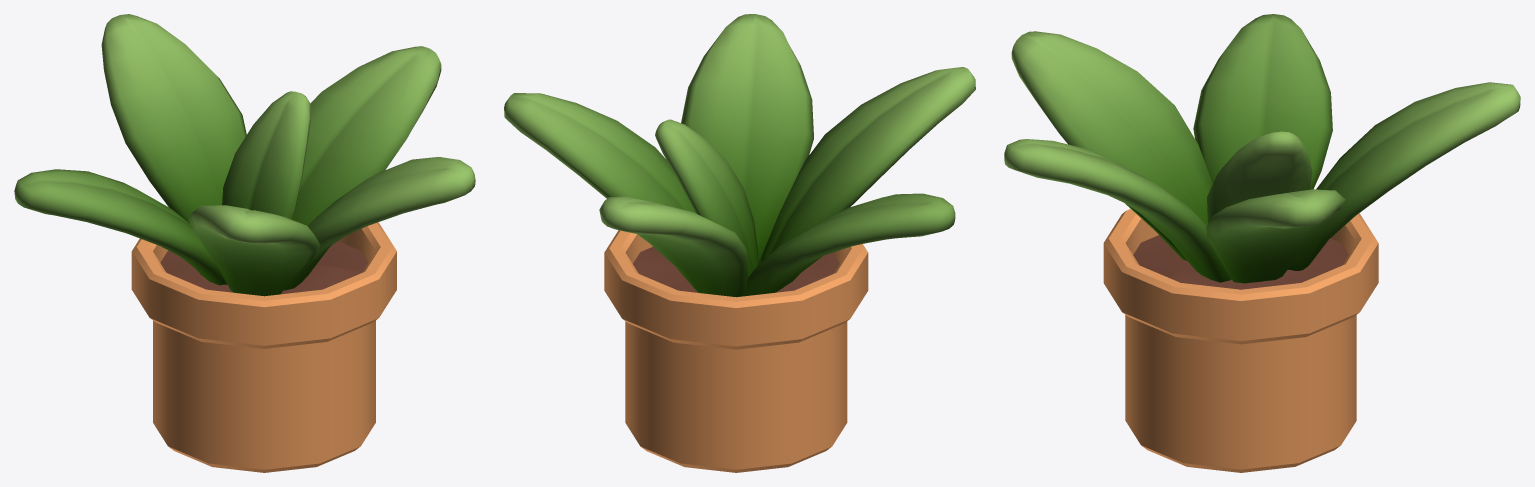
File: Mdl_Plant.fbx
The picture shows the model from 3 angles, left to right: view 1: azimuth 30°, elevation 25°; view 2: azimuth 150°, elevation 25°; view 3: azimuth 270°, elevation 25°; orthographic projection. The views are drawn at different scales.
Parts seen in each view (by area): view 1: Mesh_Plant; view 2: Mesh_Plant; view 3: Mesh_Plant.
Boxes of the visible parts, x1,y1,x2,y2 form: Mesh_Plant: [14, 14, 475, 472]; Mesh_Plant: [504, 14, 975, 472]; Mesh_Plant: [1004, 14, 1520, 472].
Bounding box in the file's own units: 429 × 304 × 427.
